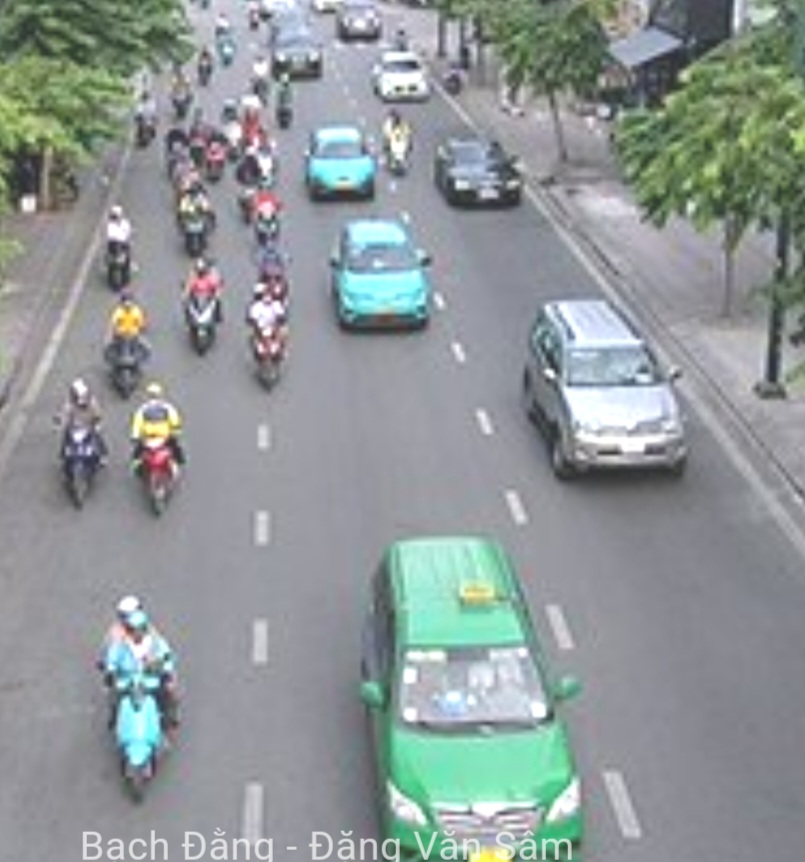car: (364, 533, 582, 854), (521, 299, 693, 477), (329, 218, 430, 331), (434, 136, 525, 213), (302, 124, 377, 203), (371, 52, 430, 102), (270, 24, 325, 76)
